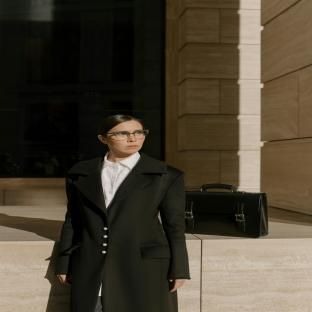Human: (55, 115, 190, 312)
